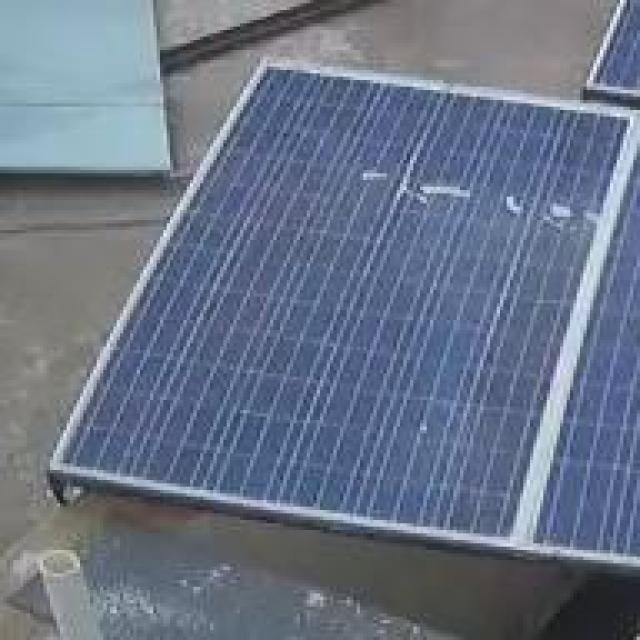Anomaly Solar Panel: (58, 0, 627, 584)
Snow: (357, 158, 476, 215), (500, 186, 603, 241)
